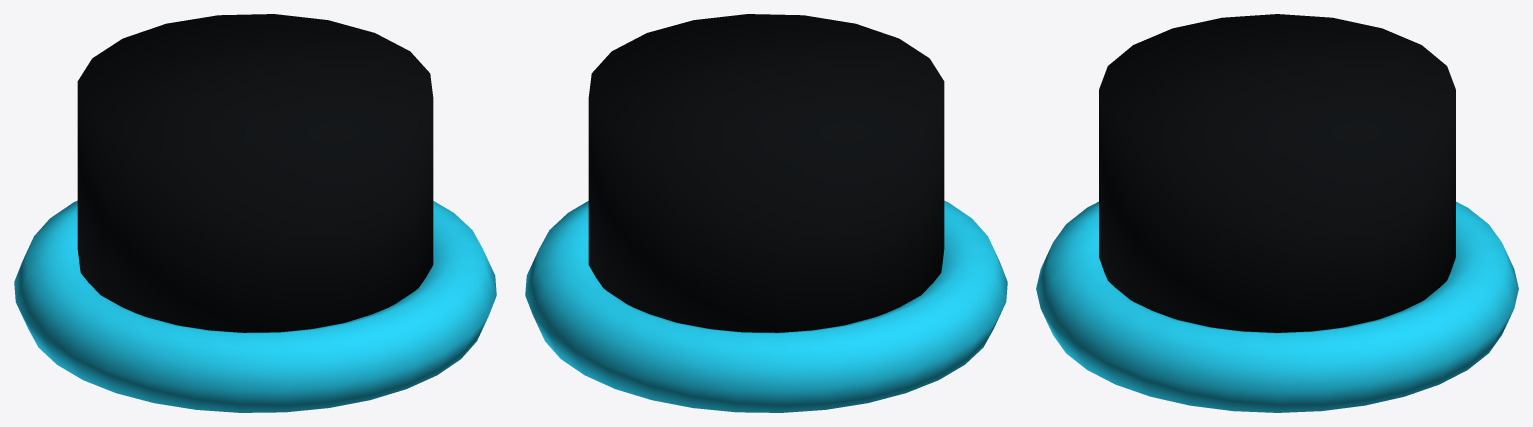
File: 06_L94_MicroscopeLensAndRingLight.fbx
The picture shows the model from 3 angles, left to right: view 1: azimuth 30°, elevation 25°; view 2: azimuth 150°, elevation 25°; view 3: azimuth 270°, elevation 25°; orthographic projection.
Parts seen in each view (by area): view 1: L94_MicroscopeLensAndRingLight_Part_0000, L94_MicroscopeLensAndRingLight_Part_0002; view 2: L94_MicroscopeLensAndRingLight_Part_0000, L94_MicroscopeLensAndRingLight_Part_0002; view 3: L94_MicroscopeLensAndRingLight_Part_0000, L94_MicroscopeLensAndRingLight_Part_0002.
Part boxes in pixels (left/top/right/bottom): L94_MicroscopeLensAndRingLight_Part_0000: left=77, top=14, right=433, bottom=332; L94_MicroscopeLensAndRingLight_Part_0002: left=14, top=200, right=496, bottom=412; L94_MicroscopeLensAndRingLight_Part_0000: left=588, top=14, right=944, bottom=332; L94_MicroscopeLensAndRingLight_Part_0002: left=525, top=200, right=1007, bottom=412; L94_MicroscopeLensAndRingLight_Part_0000: left=1099, top=14, right=1455, bottom=332; L94_MicroscopeLensAndRingLight_Part_0002: left=1036, top=201, right=1518, bottom=412.
Size of the model in its own units: 40.6 by 22.1 by 40.6.
